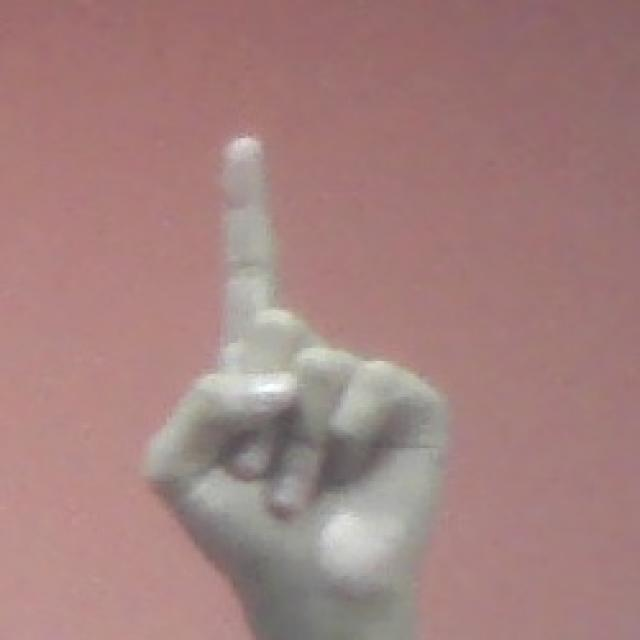Numeric-1: (145, 132, 448, 603)
